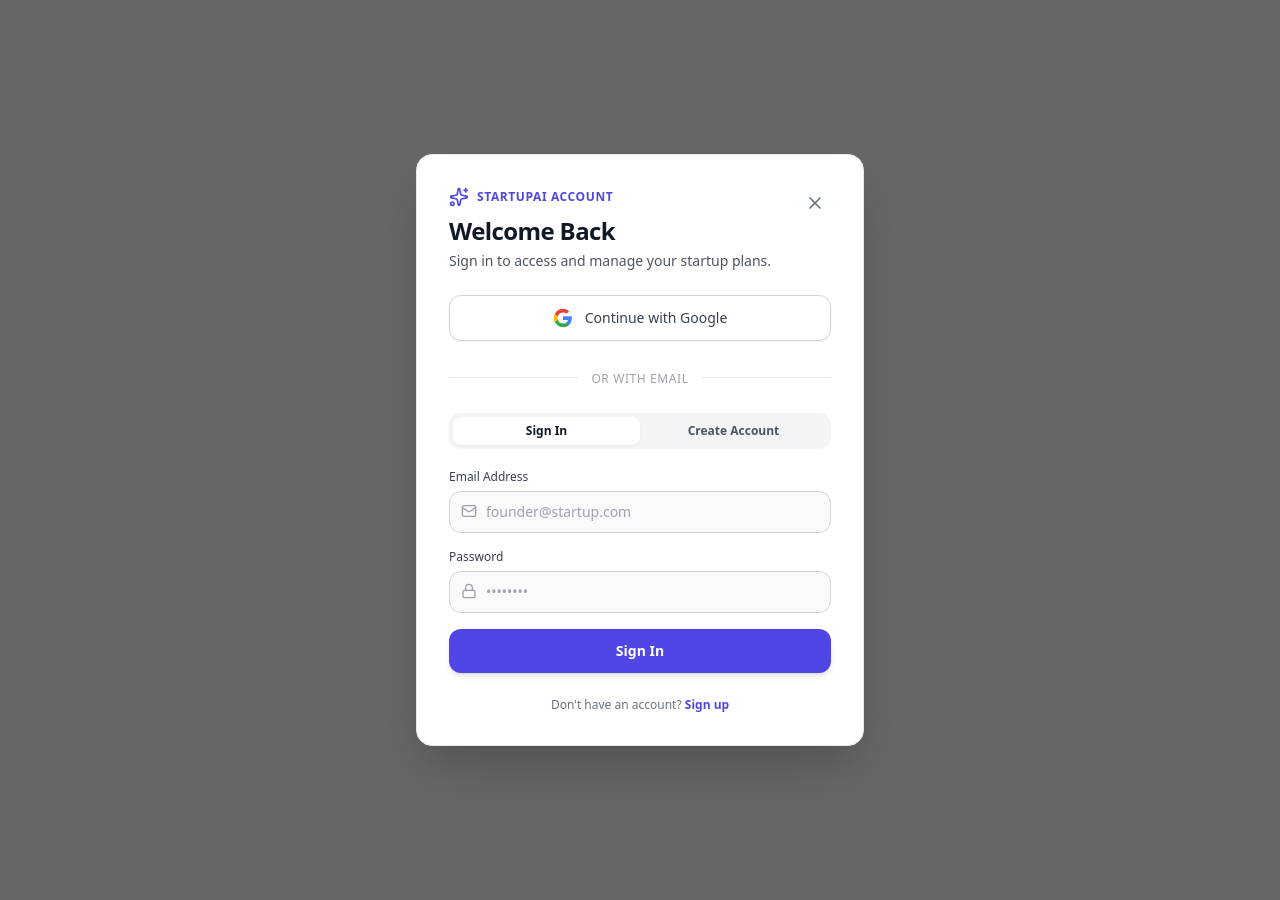
Test: AuthModal Component › switches to Create Account mode and shows name and min 8 chars hint
Click the button with test id "auth-mode-signup": (734, 431) x1=640 y1=417 x2=827 y2=445
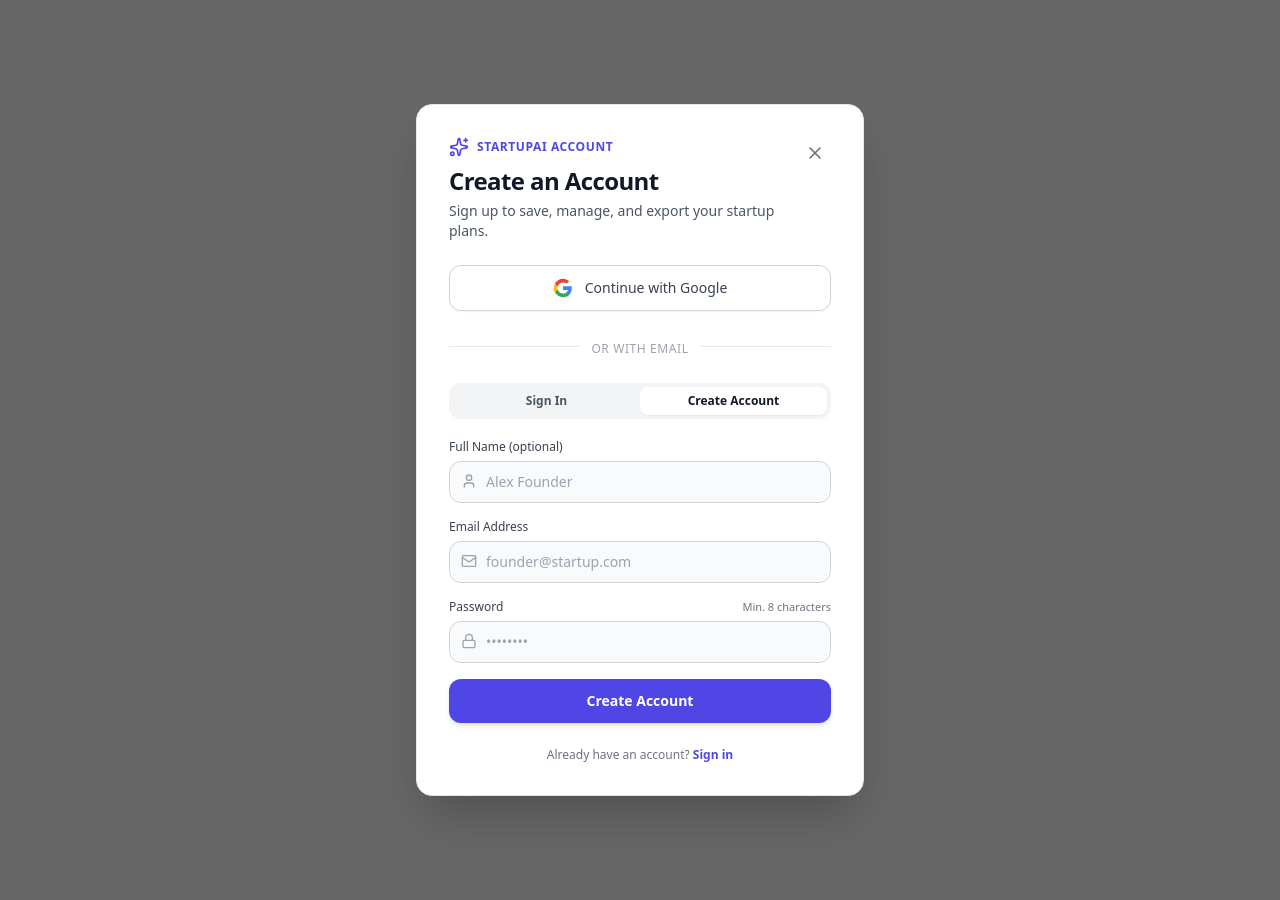
Expected: the field labelled "Full Name (optional)" is shown, x1=449 y1=461 x2=831 y2=503
Expected: the text "Min. 8 characters" is shown, x1=742 y1=599 x2=831 y2=615
Expected: the button with test id "auth-submit-btn" reads "Create Account", x1=449 y1=679 x2=831 y2=723
